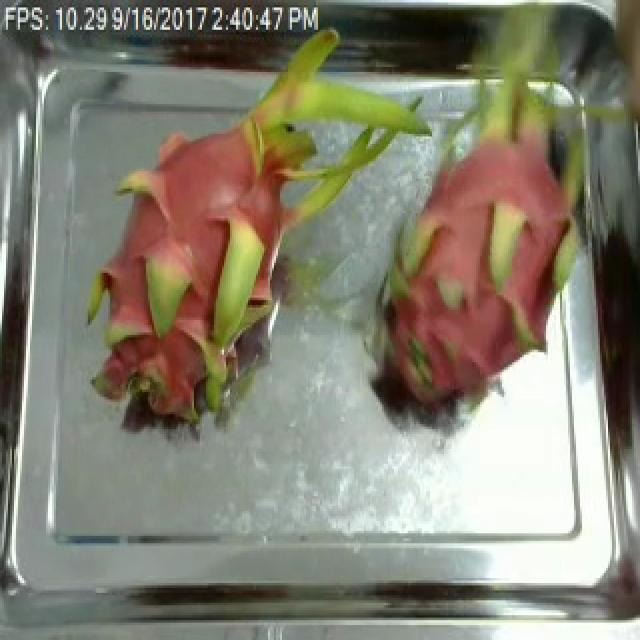Fruit: (86, 318, 226, 442)
